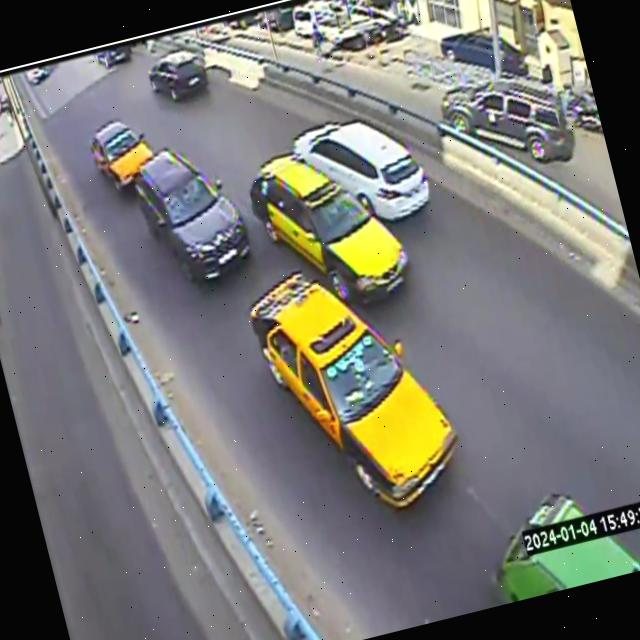car: (249, 271, 456, 507), (250, 155, 407, 299), (491, 492, 640, 604), (134, 149, 250, 279), (292, 119, 429, 218), (441, 83, 574, 160), (90, 120, 152, 190), (148, 50, 208, 101)
